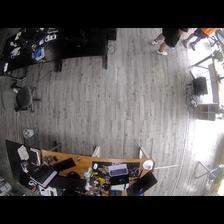normal: (150, 29, 188, 56)
